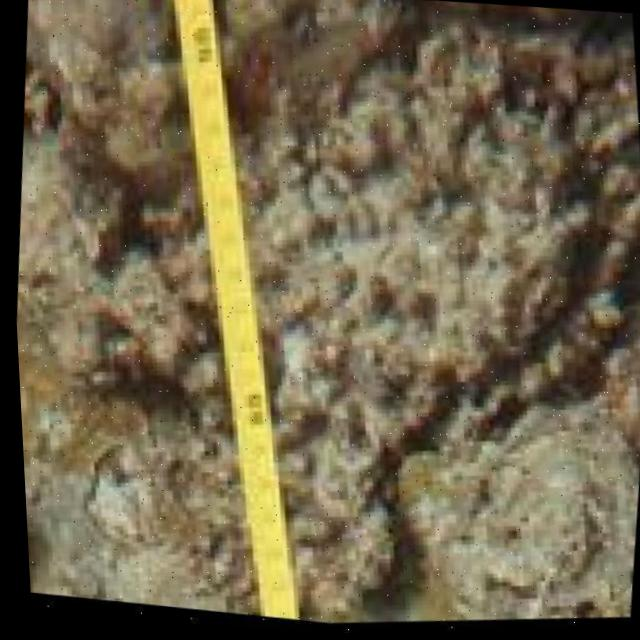Bleached Coral: (0, 0, 640, 640)
Dead Coral: (249, 0, 640, 425)
